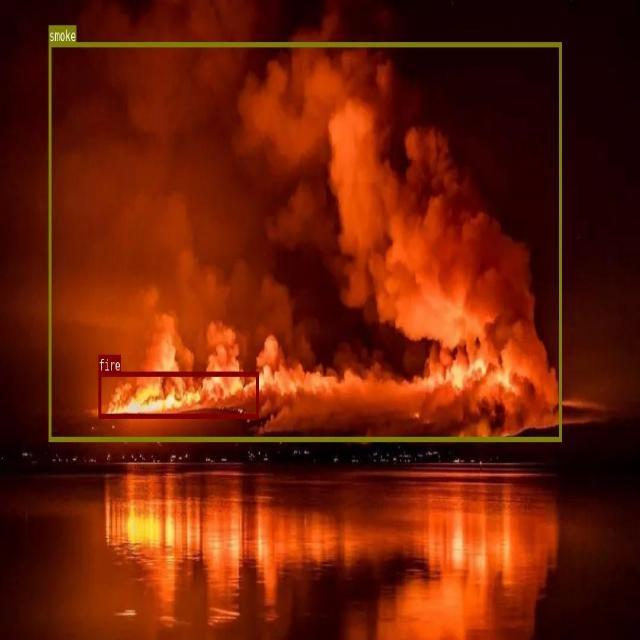fire: (98, 371, 258, 418)
smoke: (49, 42, 562, 441)
